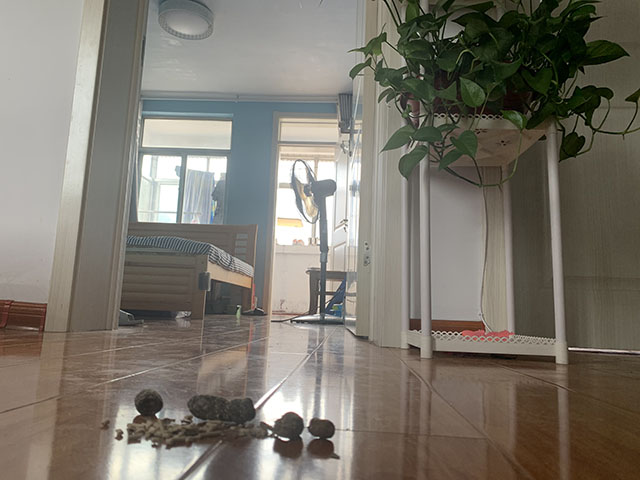bed: (120, 221, 260, 321)
feces: (186, 394, 257, 424), (271, 410, 336, 440), (134, 387, 164, 415)
slippers: (118, 308, 145, 327)
stool: (305, 265, 347, 316)
wire: (270, 283, 347, 323)
